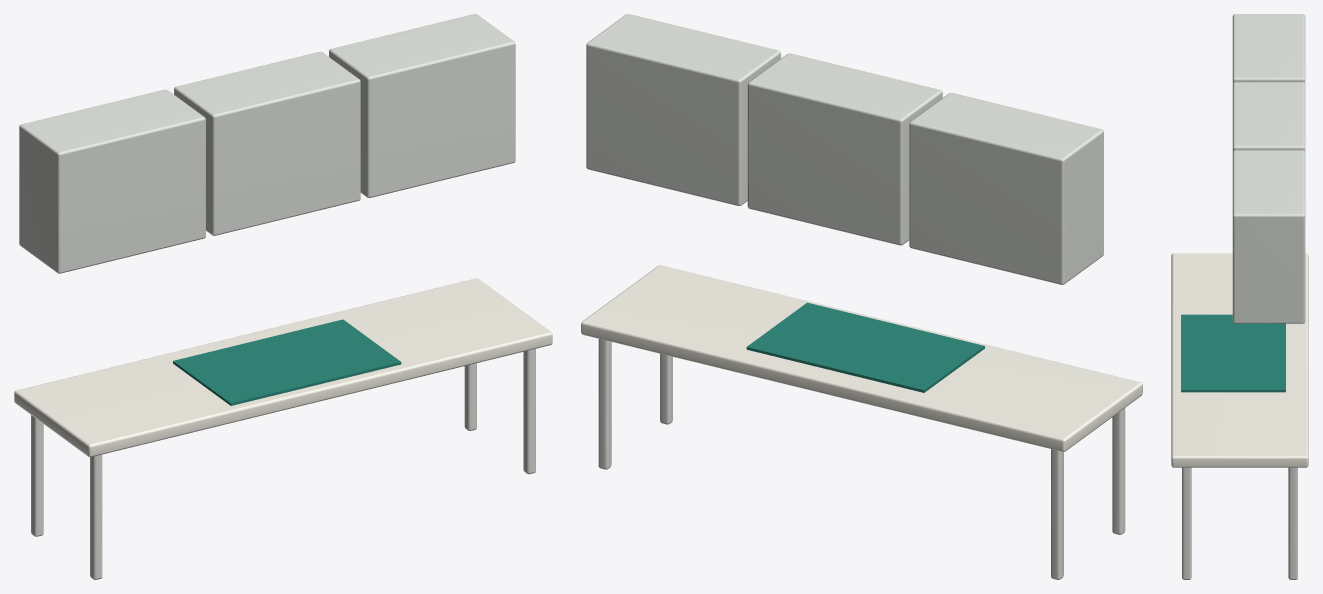
File: ObservationBench.fbx
3 renders of one model, left to right at view 1: azimuth 30°, elevation 25°; view 2: azimuth 150°, elevation 25°; view 3: azimuth 270°, elevation 25°, orthographic. The views are drawn at different scales.
Visible parts, largest first — view 1: Bench top, Wall cabinet, Wall cabinet.002, Wall cabinet.001, Observation mat, Bench leg, Bench leg.002, Bench leg.001, Bench leg.003; view 2: Bench top, Wall cabinet, Wall cabinet.001, Wall cabinet.002, Observation mat, Bench leg.003, Bench leg, Bench leg.001, Bench leg.002; view 3: Bench top, Wall cabinet.002, Observation mat, Wall cabinet, Wall cabinet.001, Bench leg.002, Bench leg.003.
Part boxes in pixels (x1,y1,x2,y2): Bench top: [14, 278, 552, 457]; Wall cabinet: [19, 89, 205, 273]; Wall cabinet.002: [329, 14, 515, 197]; Wall cabinet.001: [174, 51, 360, 235]; Observation mat: [173, 319, 401, 405]; Bench leg: [90, 454, 102, 579]; Bench leg.002: [523, 349, 535, 474]; Bench leg.001: [31, 415, 43, 536]; Bench leg.003: [464, 363, 476, 430]; Bench top: [581, 265, 1142, 451]; Wall cabinet: [909, 93, 1103, 284]; Wall cabinet.001: [747, 53, 942, 245]; Wall cabinet.002: [586, 14, 780, 205]; Observation mat: [746, 302, 984, 392]; Bench leg.003: [598, 339, 611, 469]; Bench leg: [1112, 408, 1125, 534]; Bench leg.001: [1051, 449, 1063, 579]; Bench leg.002: [660, 353, 672, 424]; Bench top: [1171, 253, 1308, 467]; Wall cabinet.002: [1232, 150, 1305, 323]; Observation mat: [1181, 314, 1285, 392]; Wall cabinet: [1232, 14, 1305, 83]; Wall cabinet.001: [1232, 82, 1305, 151]; Bench leg.002: [1182, 467, 1191, 579]; Bench leg.003: [1288, 467, 1297, 579].
Bounding box in the file's own units: 3 × 2.53 × 0.85.
